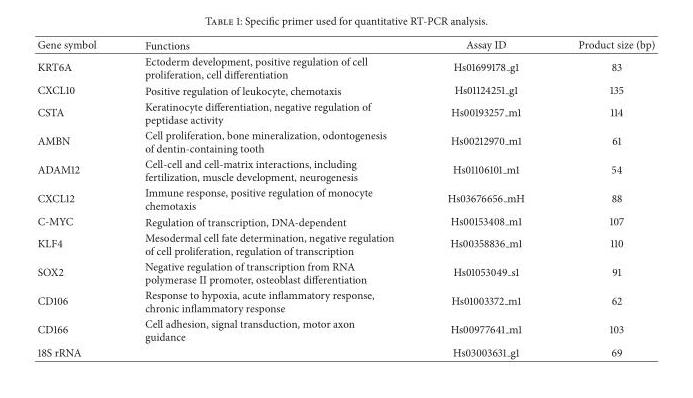table: (36, 36, 654, 359)
table column: (119, 36, 420, 359), (420, 36, 550, 359), (550, 36, 654, 359), (36, 36, 119, 359)
table column header: (36, 36, 654, 52)
table row: (36, 52, 654, 81), (36, 98, 654, 127), (36, 155, 654, 184), (36, 229, 654, 258), (36, 286, 654, 315), (36, 315, 654, 344), (36, 127, 654, 155), (36, 184, 654, 212), (36, 258, 654, 286), (36, 81, 654, 98), (36, 212, 654, 229), (36, 36, 654, 52), (36, 344, 654, 359)
